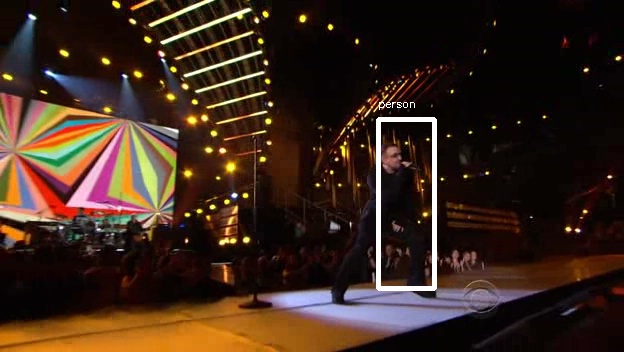person: (355, 147, 425, 266), (352, 147, 422, 266), (358, 147, 428, 266), (355, 144, 425, 263), (355, 150, 425, 269)
target_negative: (51, 128, 206, 332), (196, 293, 334, 334), (543, 39, 575, 182), (484, 289, 519, 340), (440, 186, 483, 217), (595, 127, 603, 230)
